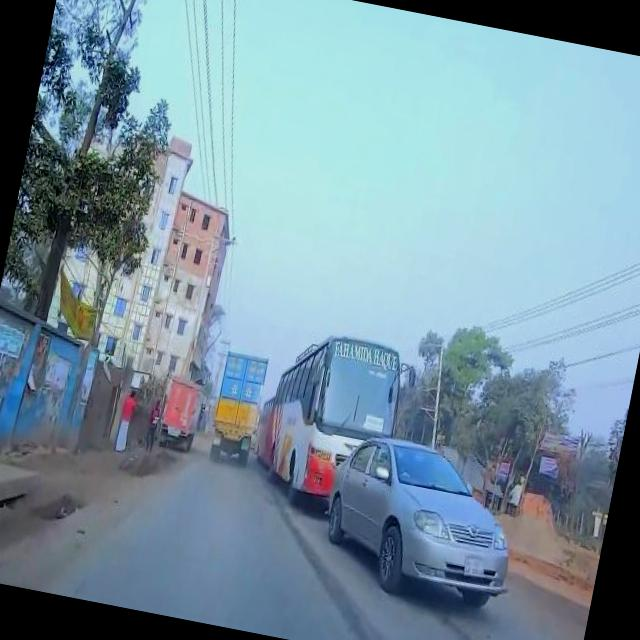bus: (257, 326, 360, 507)
car: (314, 428, 528, 615)
truck: (206, 348, 270, 466), (156, 374, 206, 452)
